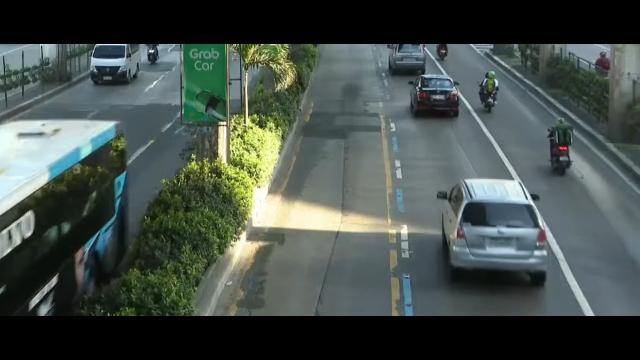bus: (0, 115, 133, 319)
car: (440, 175, 550, 287), (409, 76, 460, 116), (386, 43, 427, 69)
motorcycle: (549, 118, 570, 176), (478, 72, 500, 114), (148, 43, 158, 62), (437, 46, 448, 58)
van: (90, 43, 142, 85)
